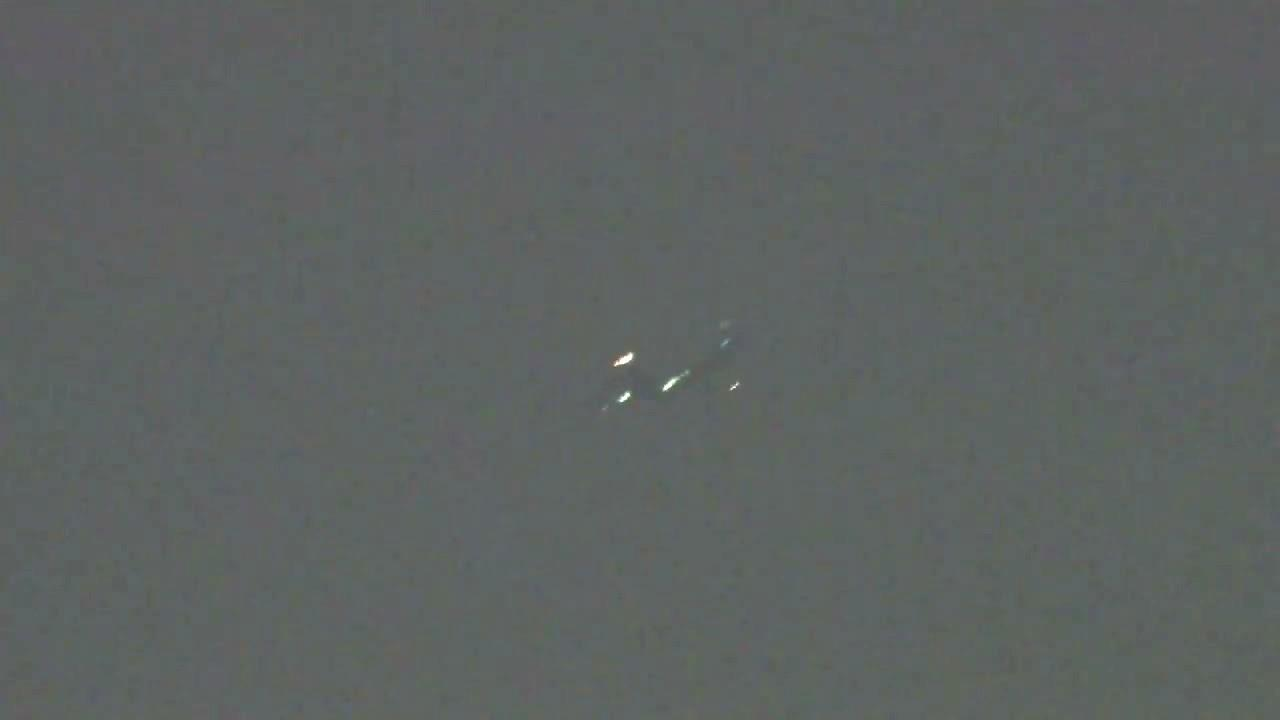Plane: (569, 316, 766, 428)
